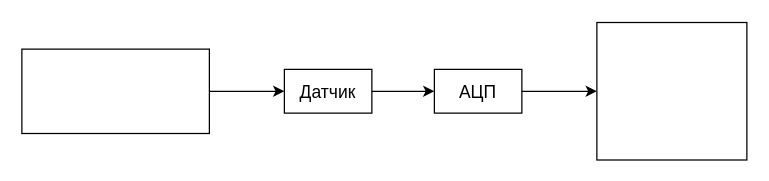
This 769x181 diagram has some shape labels left out. Here are the shapes that lost their labels. From the top down, the centre of each, then its label:
the point at 115,91: Экспериментальная установка
the point at 671,90: Компьютер
